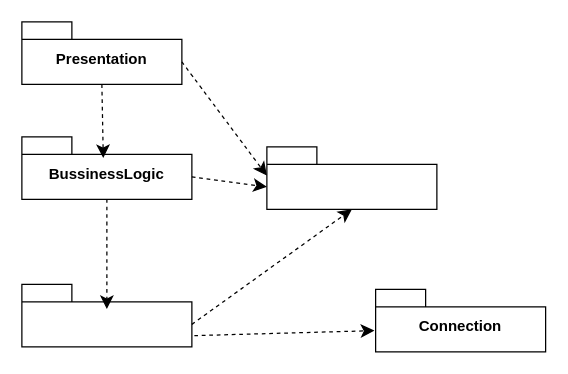
This 568x374 diagram has some shape labels left out. Here are the shapes that lost their labels. From the top down, the box of each, then its label:
(266, 146, 437, 209): Model
(21, 283, 192, 347): DataAccess
